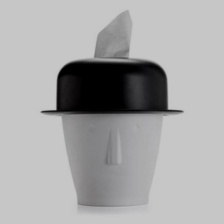plastic_box: (35, 50, 189, 212)
tissue: (88, 4, 138, 61)
